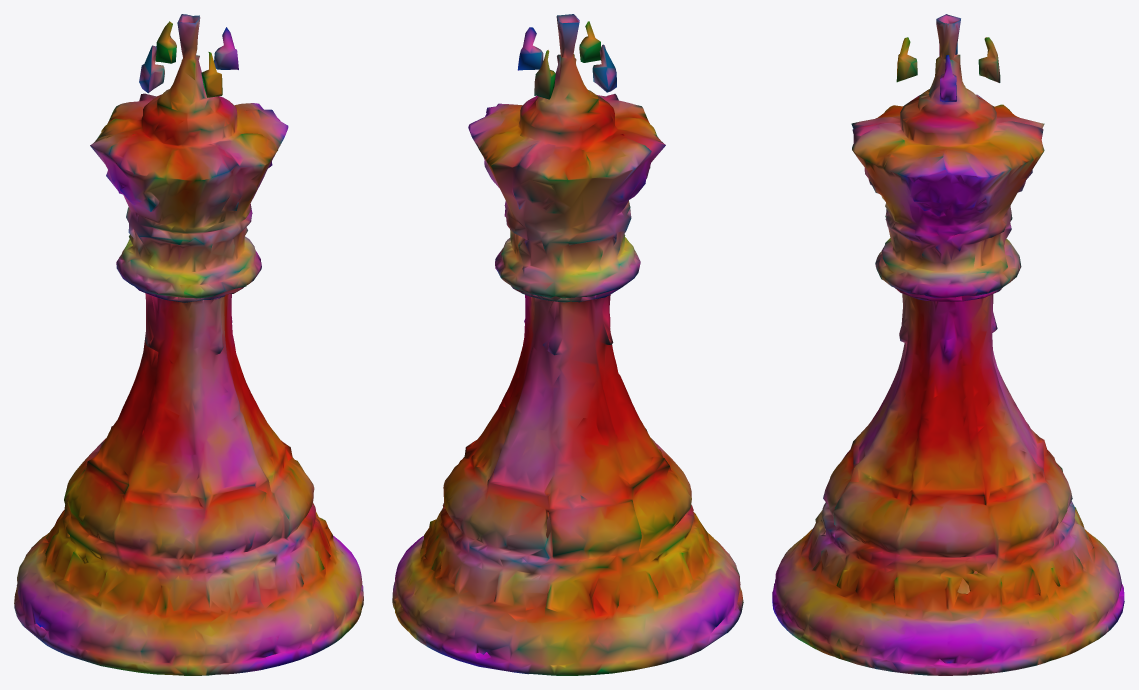
File: king.glb
3 renders of one model, left to right at view 1: azimuth 30°, elevation 25°; view 2: azimuth 150°, elevation 25°; view 3: azimuth 270°, elevation 25°, orthographic.
Parts seen in each view (by area): view 1: geometry_0; view 2: geometry_0; view 3: geometry_0.
Part boxes in pixels (box(x1,y1,x2,y2)): geometry_0: box(14, 14, 363, 675); geometry_0: box(392, 14, 743, 675); geometry_0: box(772, 14, 1124, 675).
Bounding box in the file's own units: 0.5474 × 1 × 0.5472.
